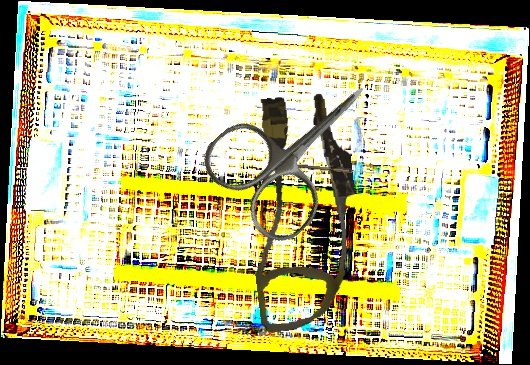Cannula: (234, 89, 371, 334)
Iris Scissors: (193, 42, 407, 253)
Surgical Spoon: (269, 161, 382, 176)
